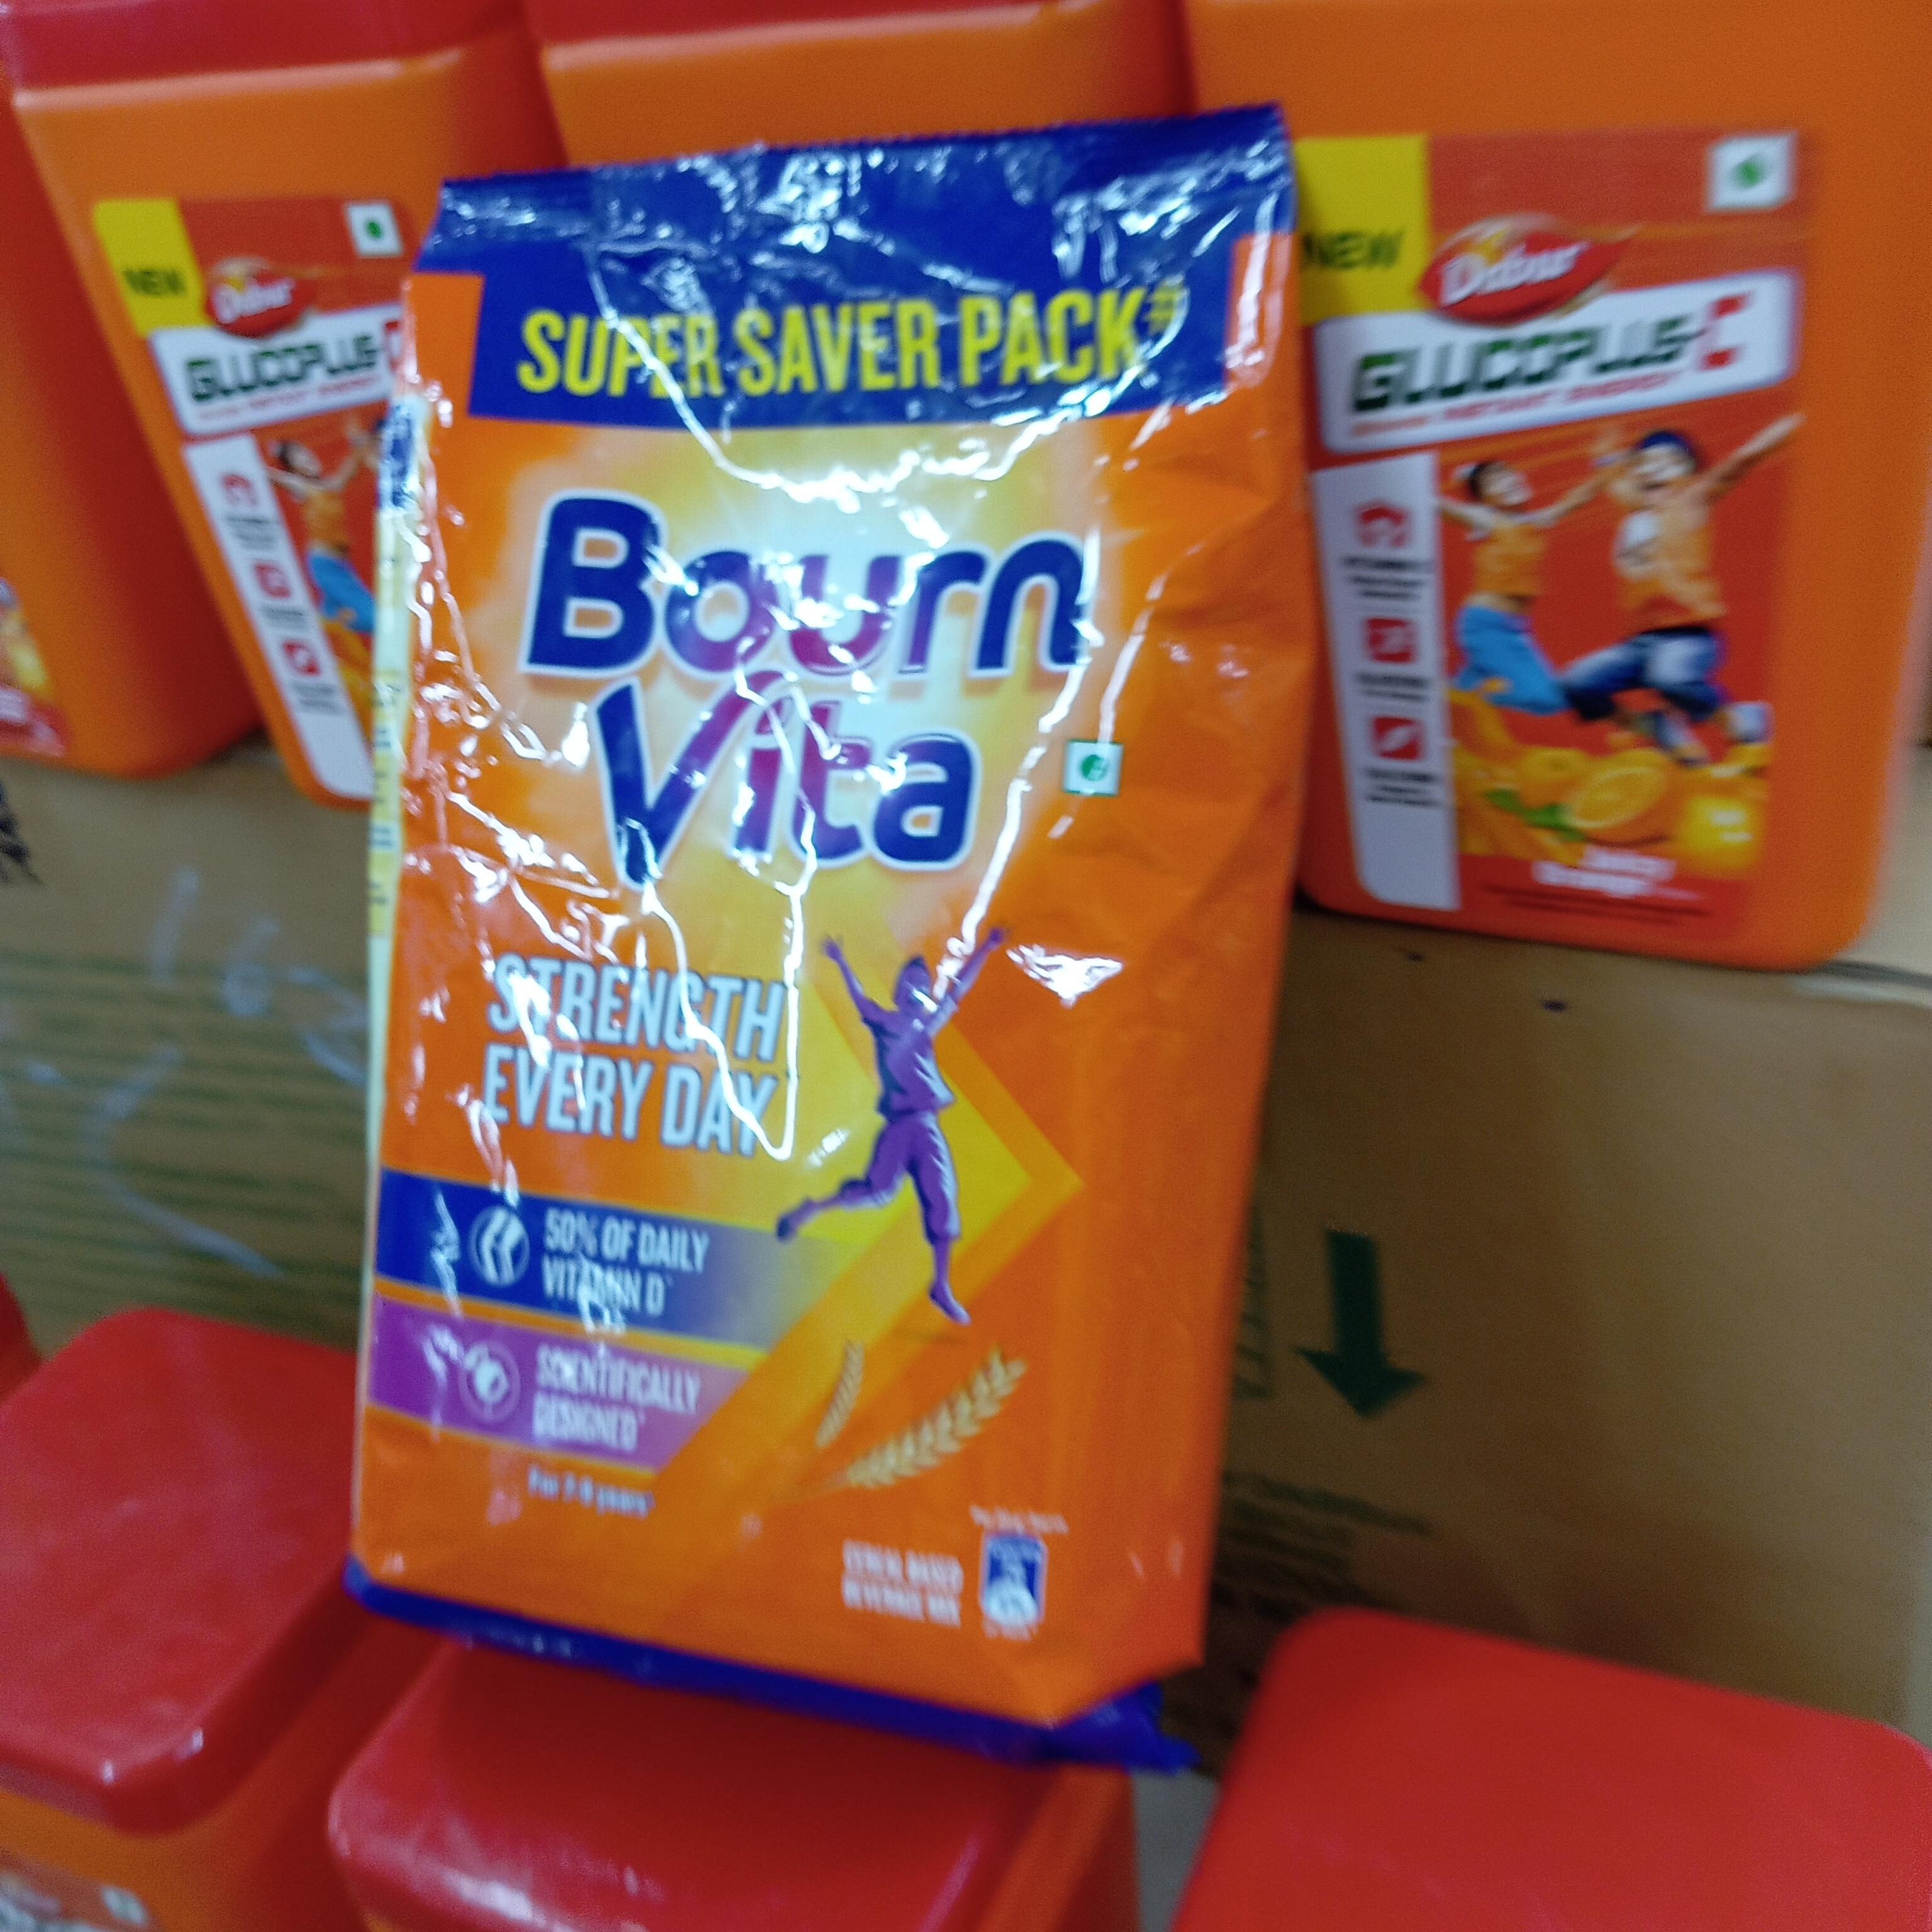BOURN_VITA_1_KG_POUCH: (393, 129, 1155, 1741)
